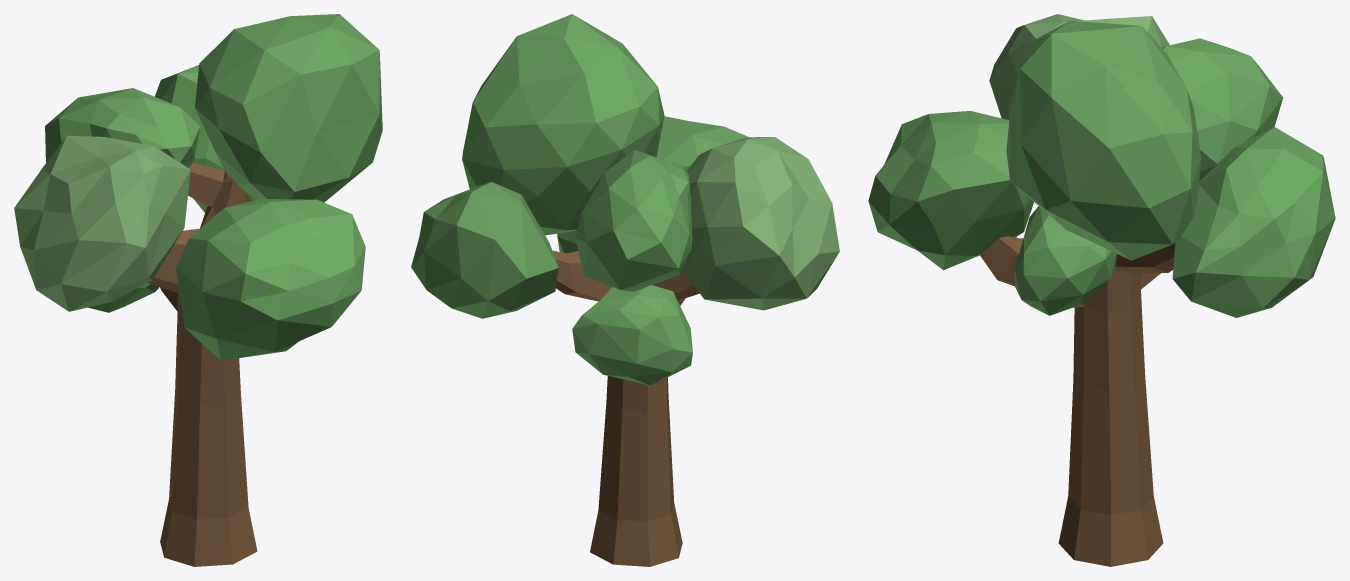
File: f_long_oak_tree4.fbx
The picture shows the model from 3 angles, left to right: view 1: azimuth 30°, elevation 25°; view 2: azimuth 150°, elevation 25°; view 3: azimuth 270°, elevation 25°; orthographic projection. The views are drawn at different scales.
Parts seen in each view (by area): view 1: OakTree4; view 2: OakTree4; view 3: OakTree4.
Part boxes in pixels (bbox=[...]): OakTree4: bbox=[14, 14, 382, 566]; OakTree4: bbox=[411, 14, 839, 566]; OakTree4: bbox=[868, 14, 1335, 566].
Bounding box in the file's own units: 1218 × 1691 × 1280.
